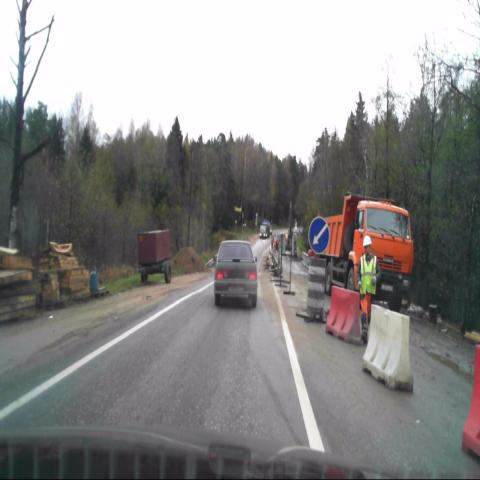4_2_2: (308, 215, 330, 255)
